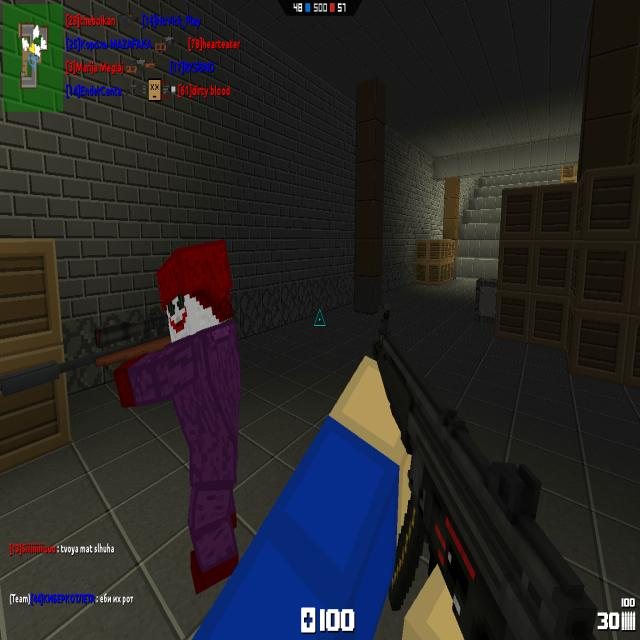enemy: (114, 239, 251, 594)
